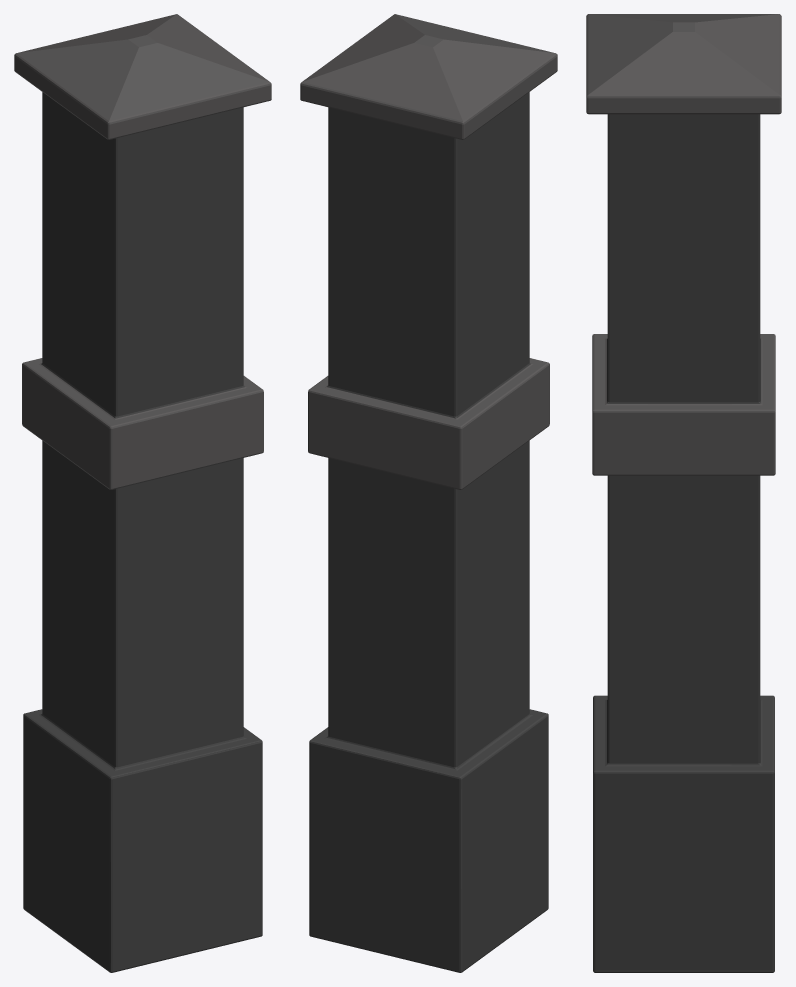
File: FencePillar.fbx
The picture shows the model from 3 angles, left to right: view 1: azimuth 30°, elevation 25°; view 2: azimuth 150°, elevation 25°; view 3: azimuth 270°, elevation 25°; orthographic projection. The views are drawn at different scales.
Parts seen in each view (by area): view 1: FencePillar.001; view 2: FencePillar.001; view 3: FencePillar.001.
Part boxes in pixels (left/top/right/bottom): FencePillar.001: left=14, top=14, right=271, bottom=972; FencePillar.001: left=300, top=14, right=557, bottom=972; FencePillar.001: left=586, top=14, right=781, bottom=972.
Bounding box in the file's own units: 62.49 × 62.49 × 320.
1 material, 1 textured.
